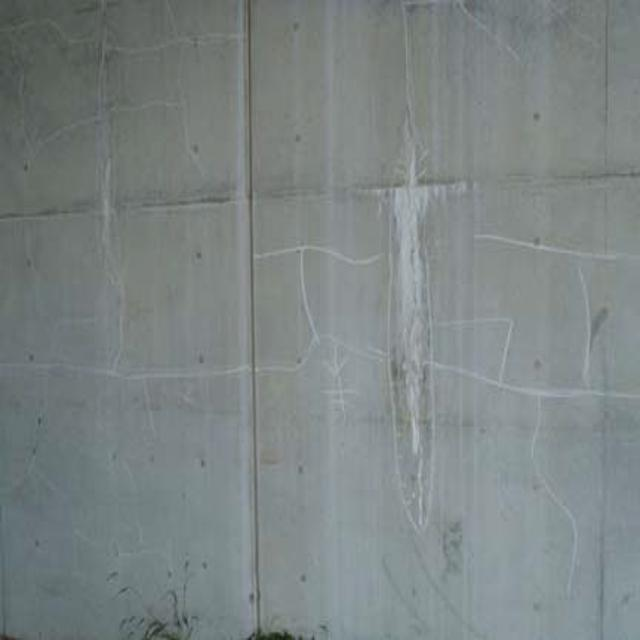freelime: (358, 121, 452, 463)
